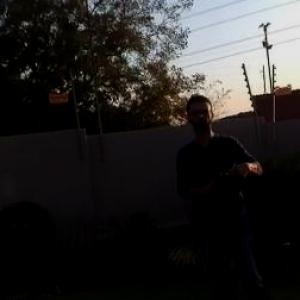follow: (172, 81, 280, 299)
